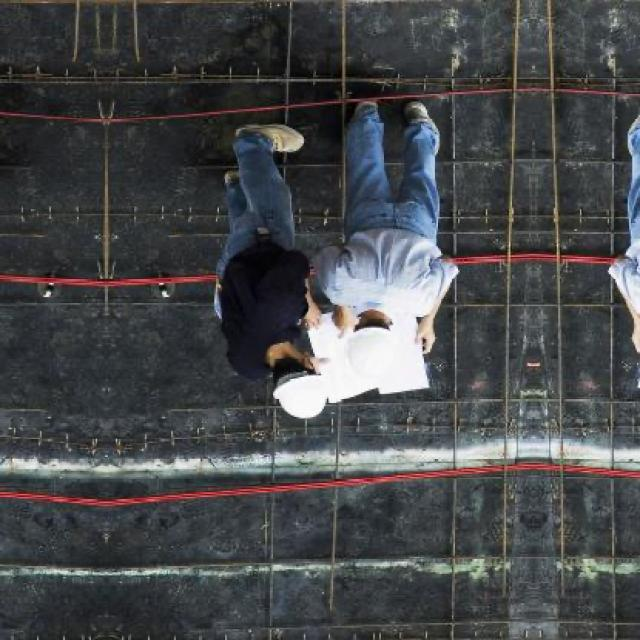con casco: (320, 245, 428, 397), (208, 306, 320, 443)
